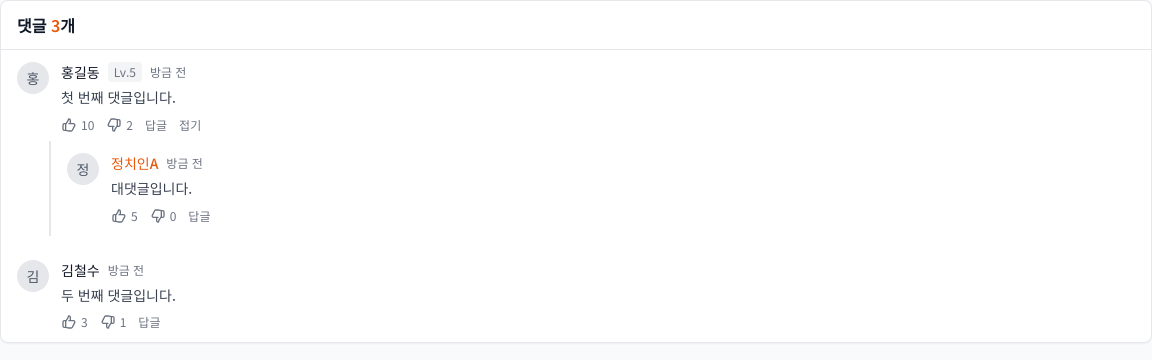
CommentThread Component › Collapse/Expand › should toggle visibility when clicking collapse/expand
The image size is (1152, 360).
Click the button "접기" at (190, 125), box 179,117 -> 201,133
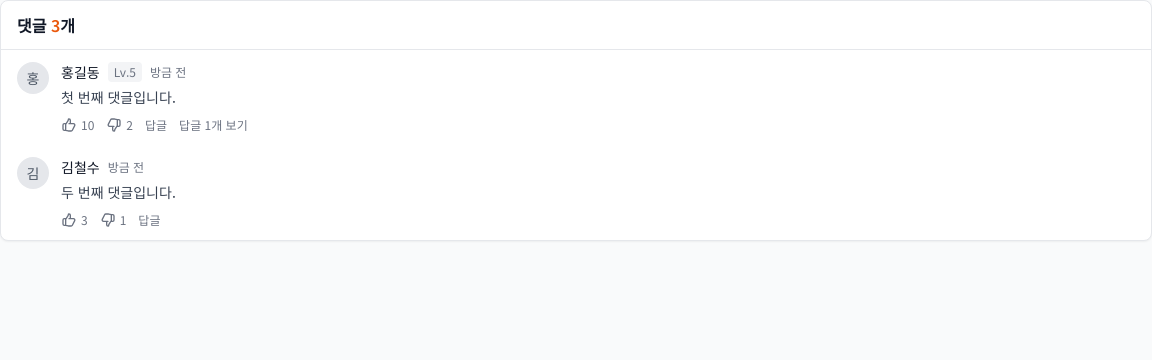
Check: the button "답글 1개 보기" is shown, box 179,117 -> 248,133
Check: the text "대댓글입니다." is gone
